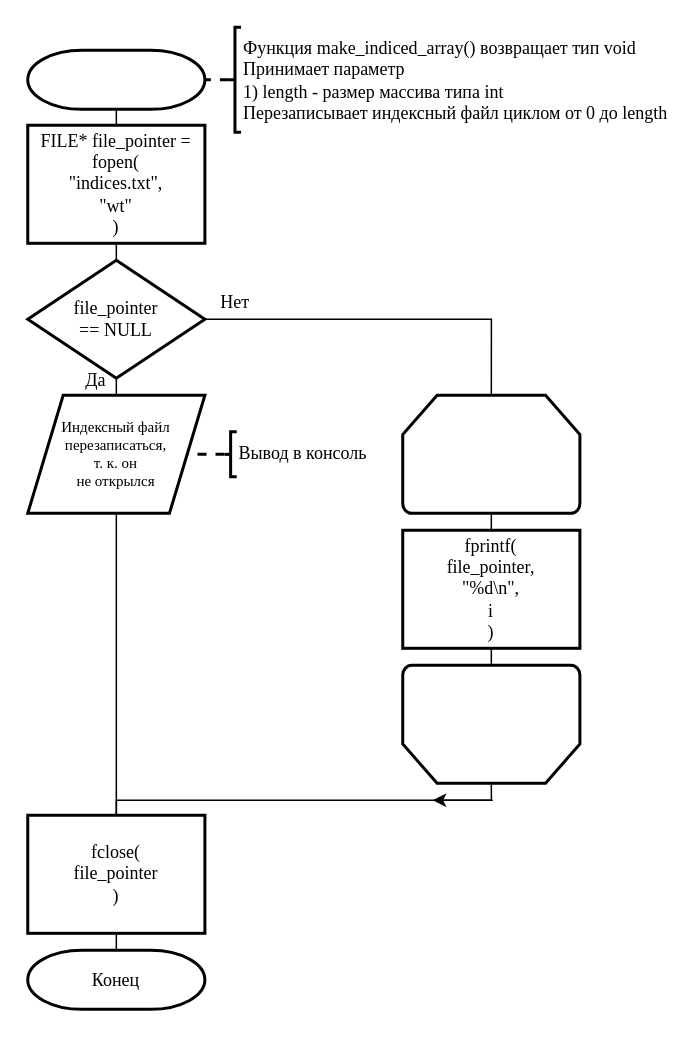
The diagram is 695 pixels wide and 1037 high, and some of its shapes have lost their labels. The shapes that lost their labels are listed below. From the top down, each one's centre as x and y in pixels, then its label:
pixel 116 79: void make_indiced _array()
pixel 490 453: int i = 0; i < length;
pixel 490 723: i++
